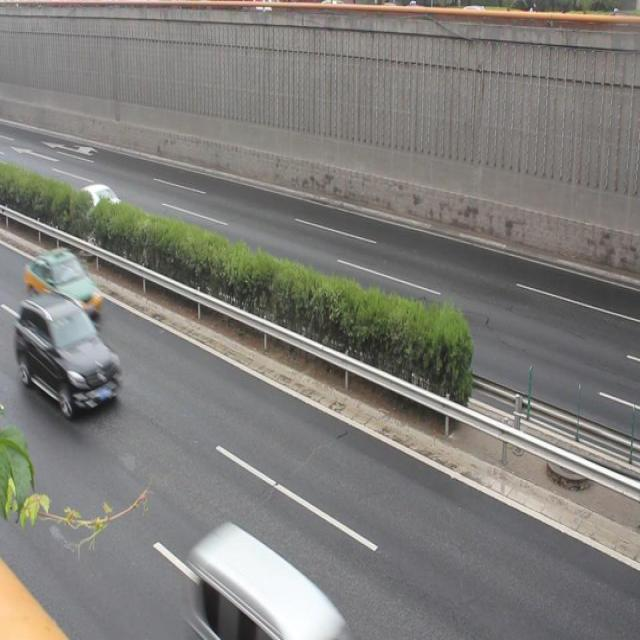car: (17, 296, 119, 413), (27, 248, 102, 316), (62, 184, 126, 234)
truck: (190, 527, 324, 640)
